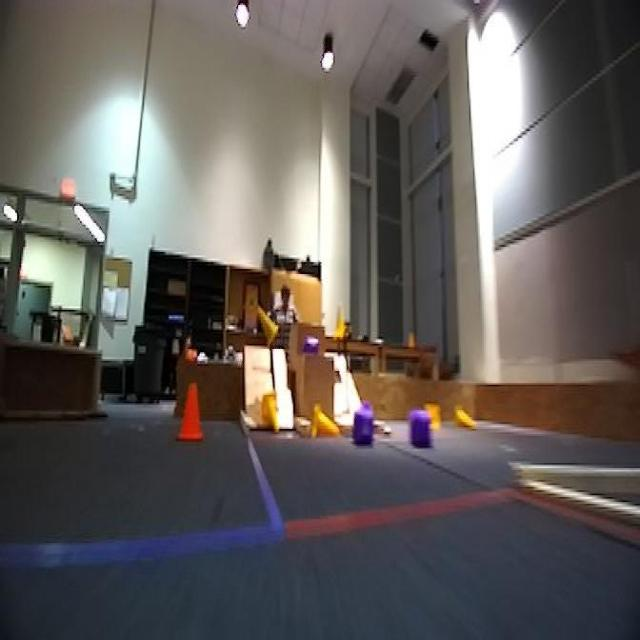frc_cone: (310, 402, 340, 442), (258, 390, 284, 432), (255, 306, 280, 348), (330, 308, 350, 349), (453, 405, 477, 436), (425, 402, 442, 441)
frc_cube: (407, 405, 436, 453), (351, 408, 374, 449), (302, 335, 324, 359)
